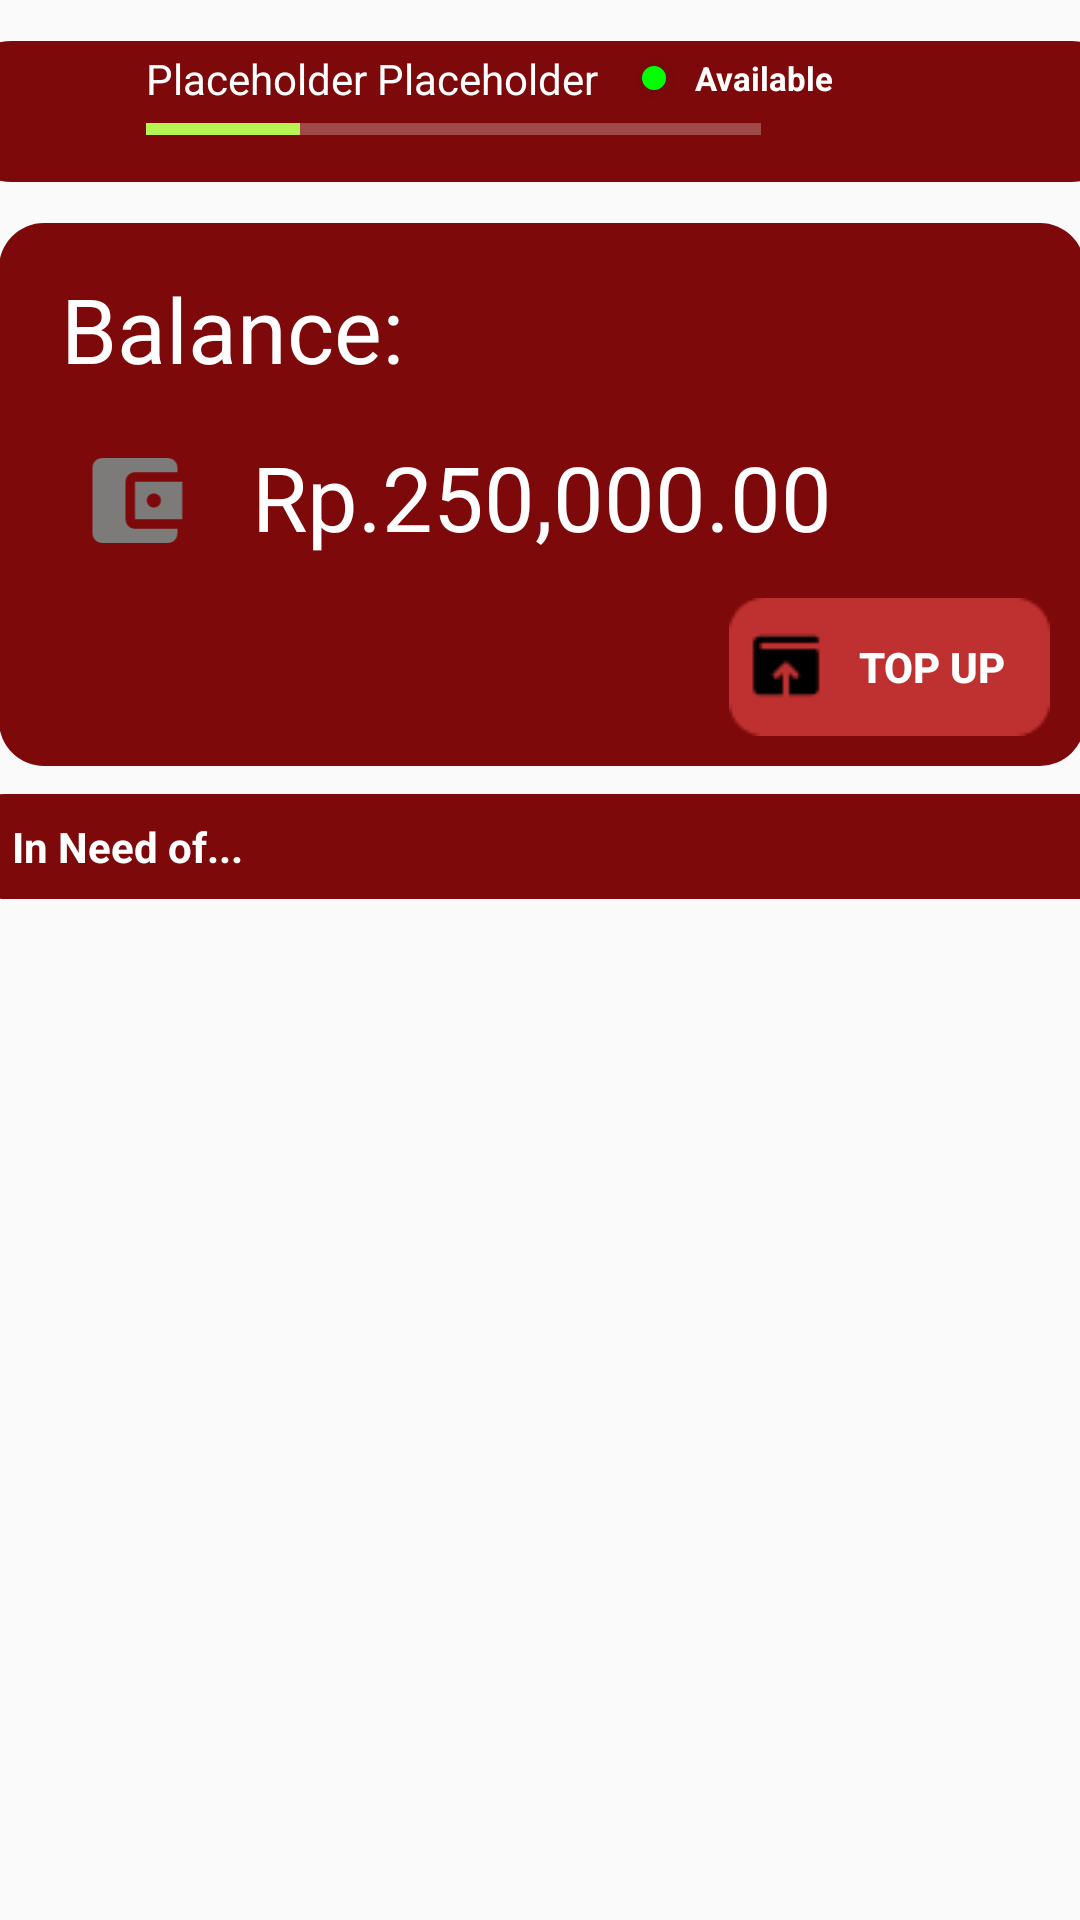

Where icons sit on this 1080px×1920px app screen, as (x1, y1, x2, y2):
wallet: (92, 458, 183, 543)
